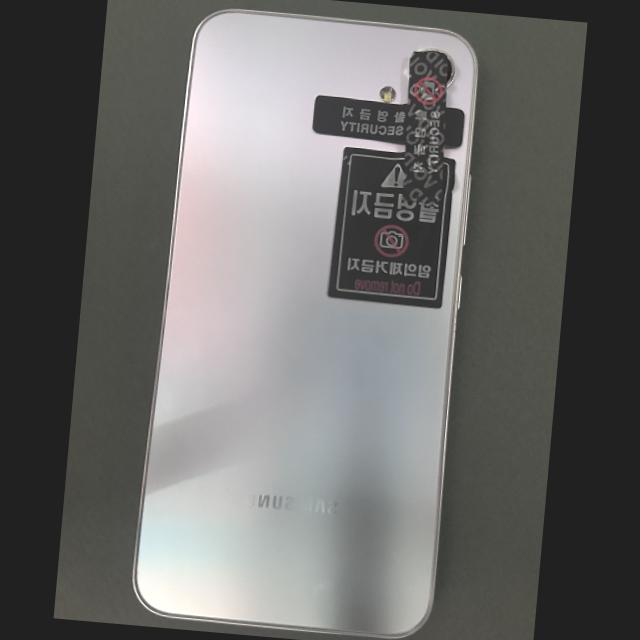lens: (418, 47, 454, 85)
phone: (133, 10, 477, 638)
sticker: (323, 147, 455, 308), (401, 50, 445, 202), (312, 95, 407, 143)
